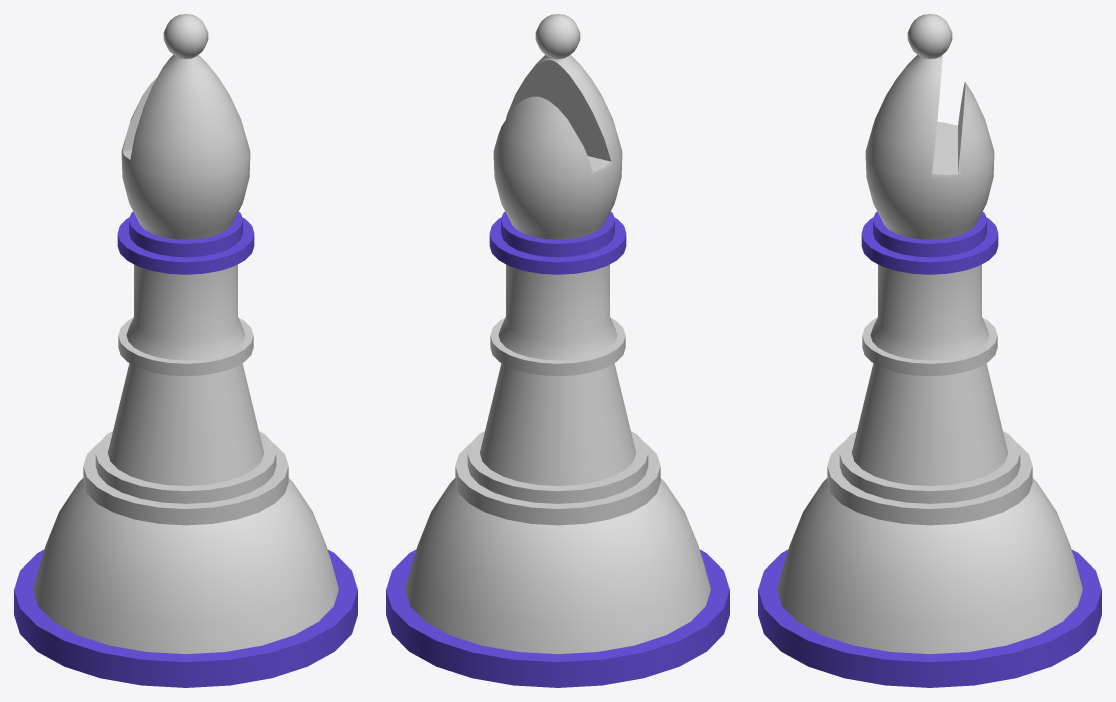
Rendered from bishop.fbx.
3 views of the same model, side by side, from view 1: azimuth 30°, elevation 25°; view 2: azimuth 150°, elevation 25°; view 3: azimuth 270°, elevation 25° (orthographic).
Parts seen in each view (by area): view 1: bishop; view 2: bishop; view 3: bishop.
Boxes of the visible parts, box(x1,y1,x2,y2) form: bishop: box(14, 14, 357, 687); bishop: box(386, 14, 729, 687); bishop: box(758, 14, 1101, 687).
Size of the model in its own units: 179 by 344 by 179.
